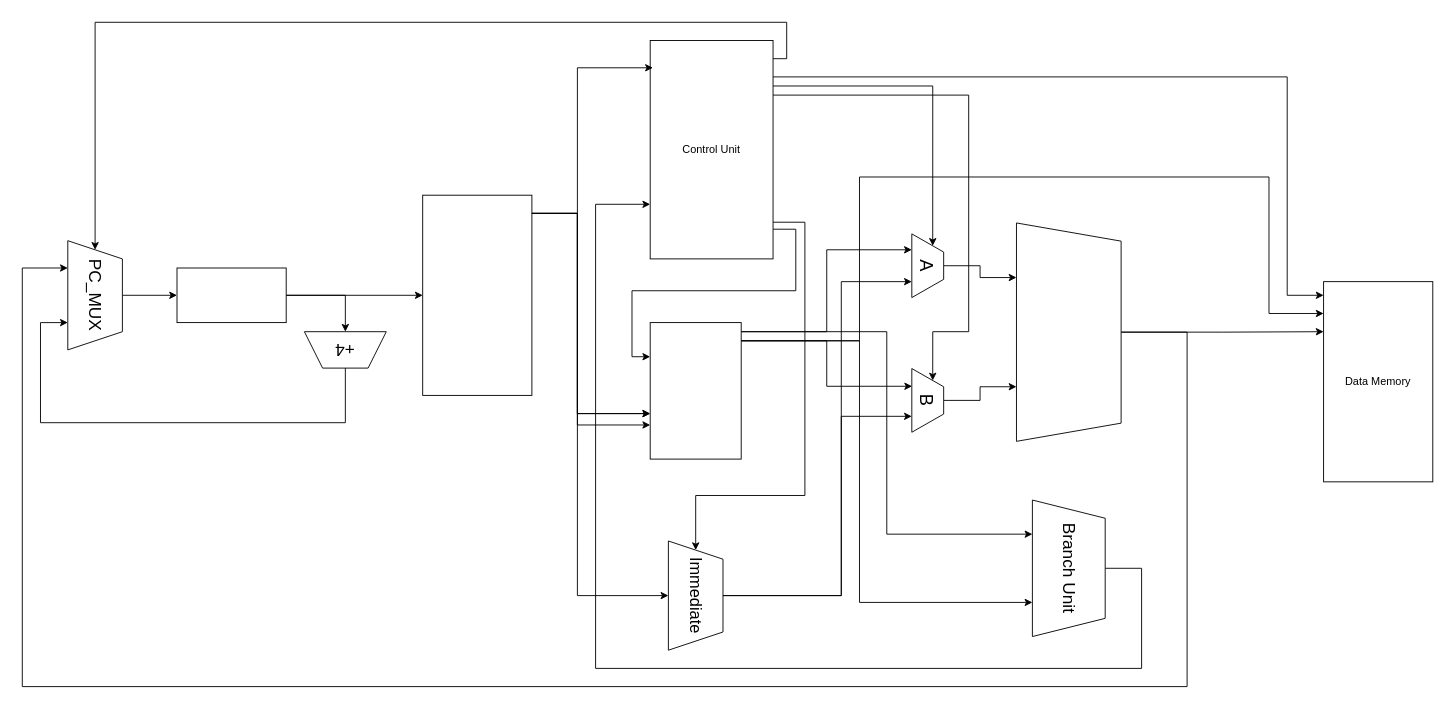
Image size: 1449x710. Some labels were removed from this diagram. The centre of each missing label's shape, as x and y in pixels:
"ALU" goes at (1068,331).
"Instruction Memory" goes at (477,294).
"Program Counter" goes at (231,295).
"Register File" goes at (695,390).
